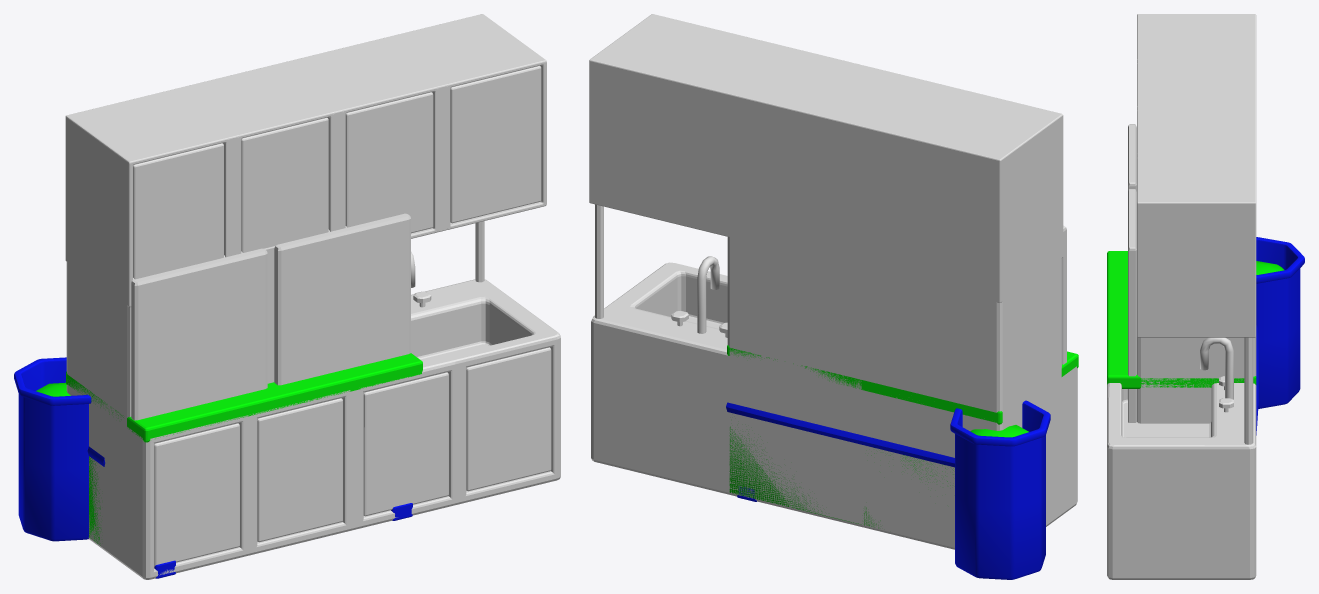
File: mess_hall_assets.fbx
3 views of the same model, side by side, from view 1: azimuth 30°, elevation 25°; view 2: azimuth 150°, elevation 25°; view 3: azimuth 270°, elevation 25° (orthographic). The views are drawn at different scales.
Visible parts, largest first — view 1: shelve, Fridge, trash, table, dining_stool; view 2: shelve, Fridge, trash, dining_stool, table; view 3: shelve, Fridge, trash, table, dining_stool.
Part boxes in pixels (x1,y1,x2,y2): shelve: (65, 14, 560, 579); Fridge: (66, 213, 410, 554); trash: (14, 357, 91, 541); table: (66, 353, 422, 578); dining_stool: (87, 446, 105, 545); shelve: (589, 14, 1077, 549); Fridge: (727, 213, 1066, 524); trash: (950, 400, 1050, 579); dining_stool: (726, 402, 954, 528); table: (727, 345, 1078, 501); shelve: (1107, 14, 1256, 579); Fridge: (1128, 124, 1256, 423); trash: (1256, 237, 1304, 408); table: (1107, 251, 1256, 388); dining_stool: (1256, 325, 1258, 435).
Bounding box in the file's own units: 333 × 280 × 133.
